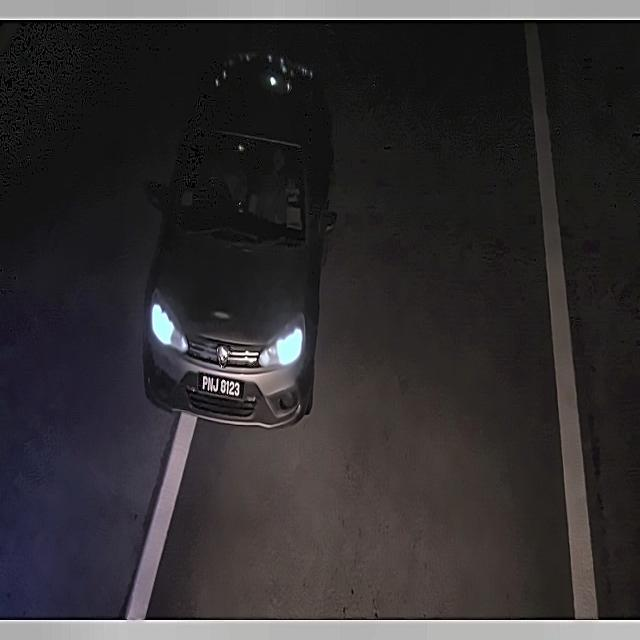car: (192, 367, 254, 407)
